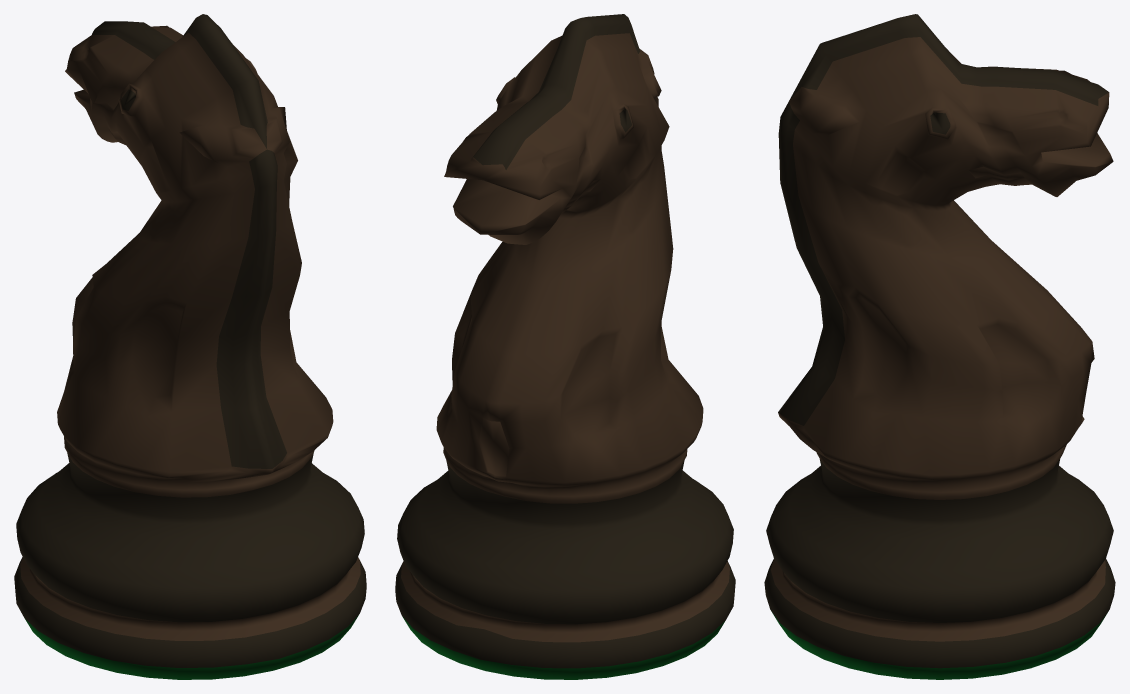
Rendered from KnightBlack.fbx.
The picture shows the model from 3 angles, left to right: view 1: azimuth 30°, elevation 25°; view 2: azimuth 150°, elevation 25°; view 3: azimuth 270°, elevation 25°; orthographic projection. The views are drawn at different scales.
Visible parts, largest first — view 1: Black Knight K; view 2: Black Knight K; view 3: Black Knight K.
Boxes of the visible parts, box(x1,y1,x2,y2) form: Black Knight K: box(14, 14, 366, 679); Black Knight K: box(395, 14, 735, 679); Black Knight K: box(764, 14, 1115, 679).
Bounding box in the file's own units: 2.99 × 5.65 × 3.01.
